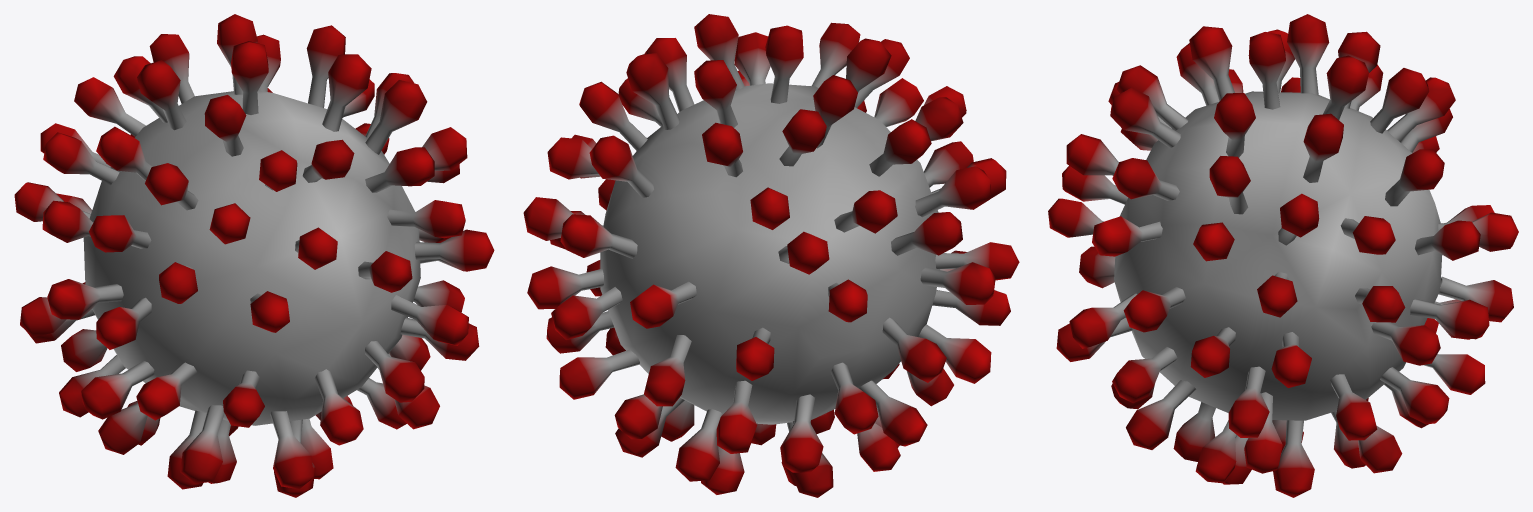
The model's file is microscopic-viruses-coronavirus_v5.glb.
3 renders of one model, left to right at view 1: azimuth 30°, elevation 25°; view 2: azimuth 150°, elevation 25°; view 3: azimuth 270°, elevation 25°, orthographic. The views are drawn at different scales.
Parts seen in each view (by area): view 1: Coronavirus_v5; view 2: Coronavirus_v5; view 3: Coronavirus_v5.
Part boxes in pixels (<box>): Coronavirus_v5: <box>14,14,494,497</box>; Coronavirus_v5: <box>523,14,1019,497</box>; Coronavirus_v5: <box>1048,14,1518,497</box>.
Size of the model in its own units: 0.12 by 0.1196 by 0.117.
